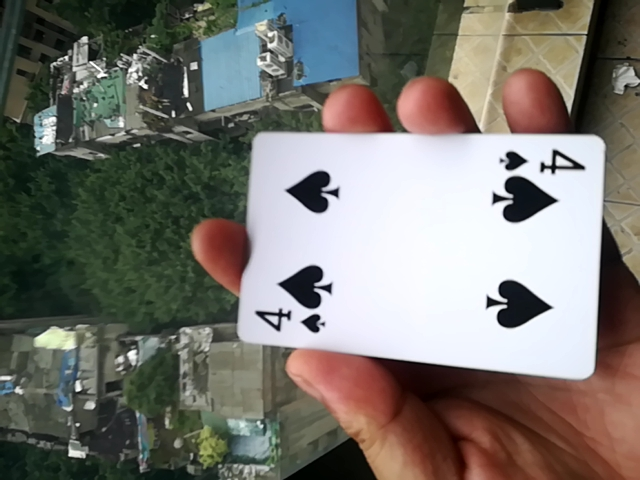ht 4: (218, 129, 606, 379)
